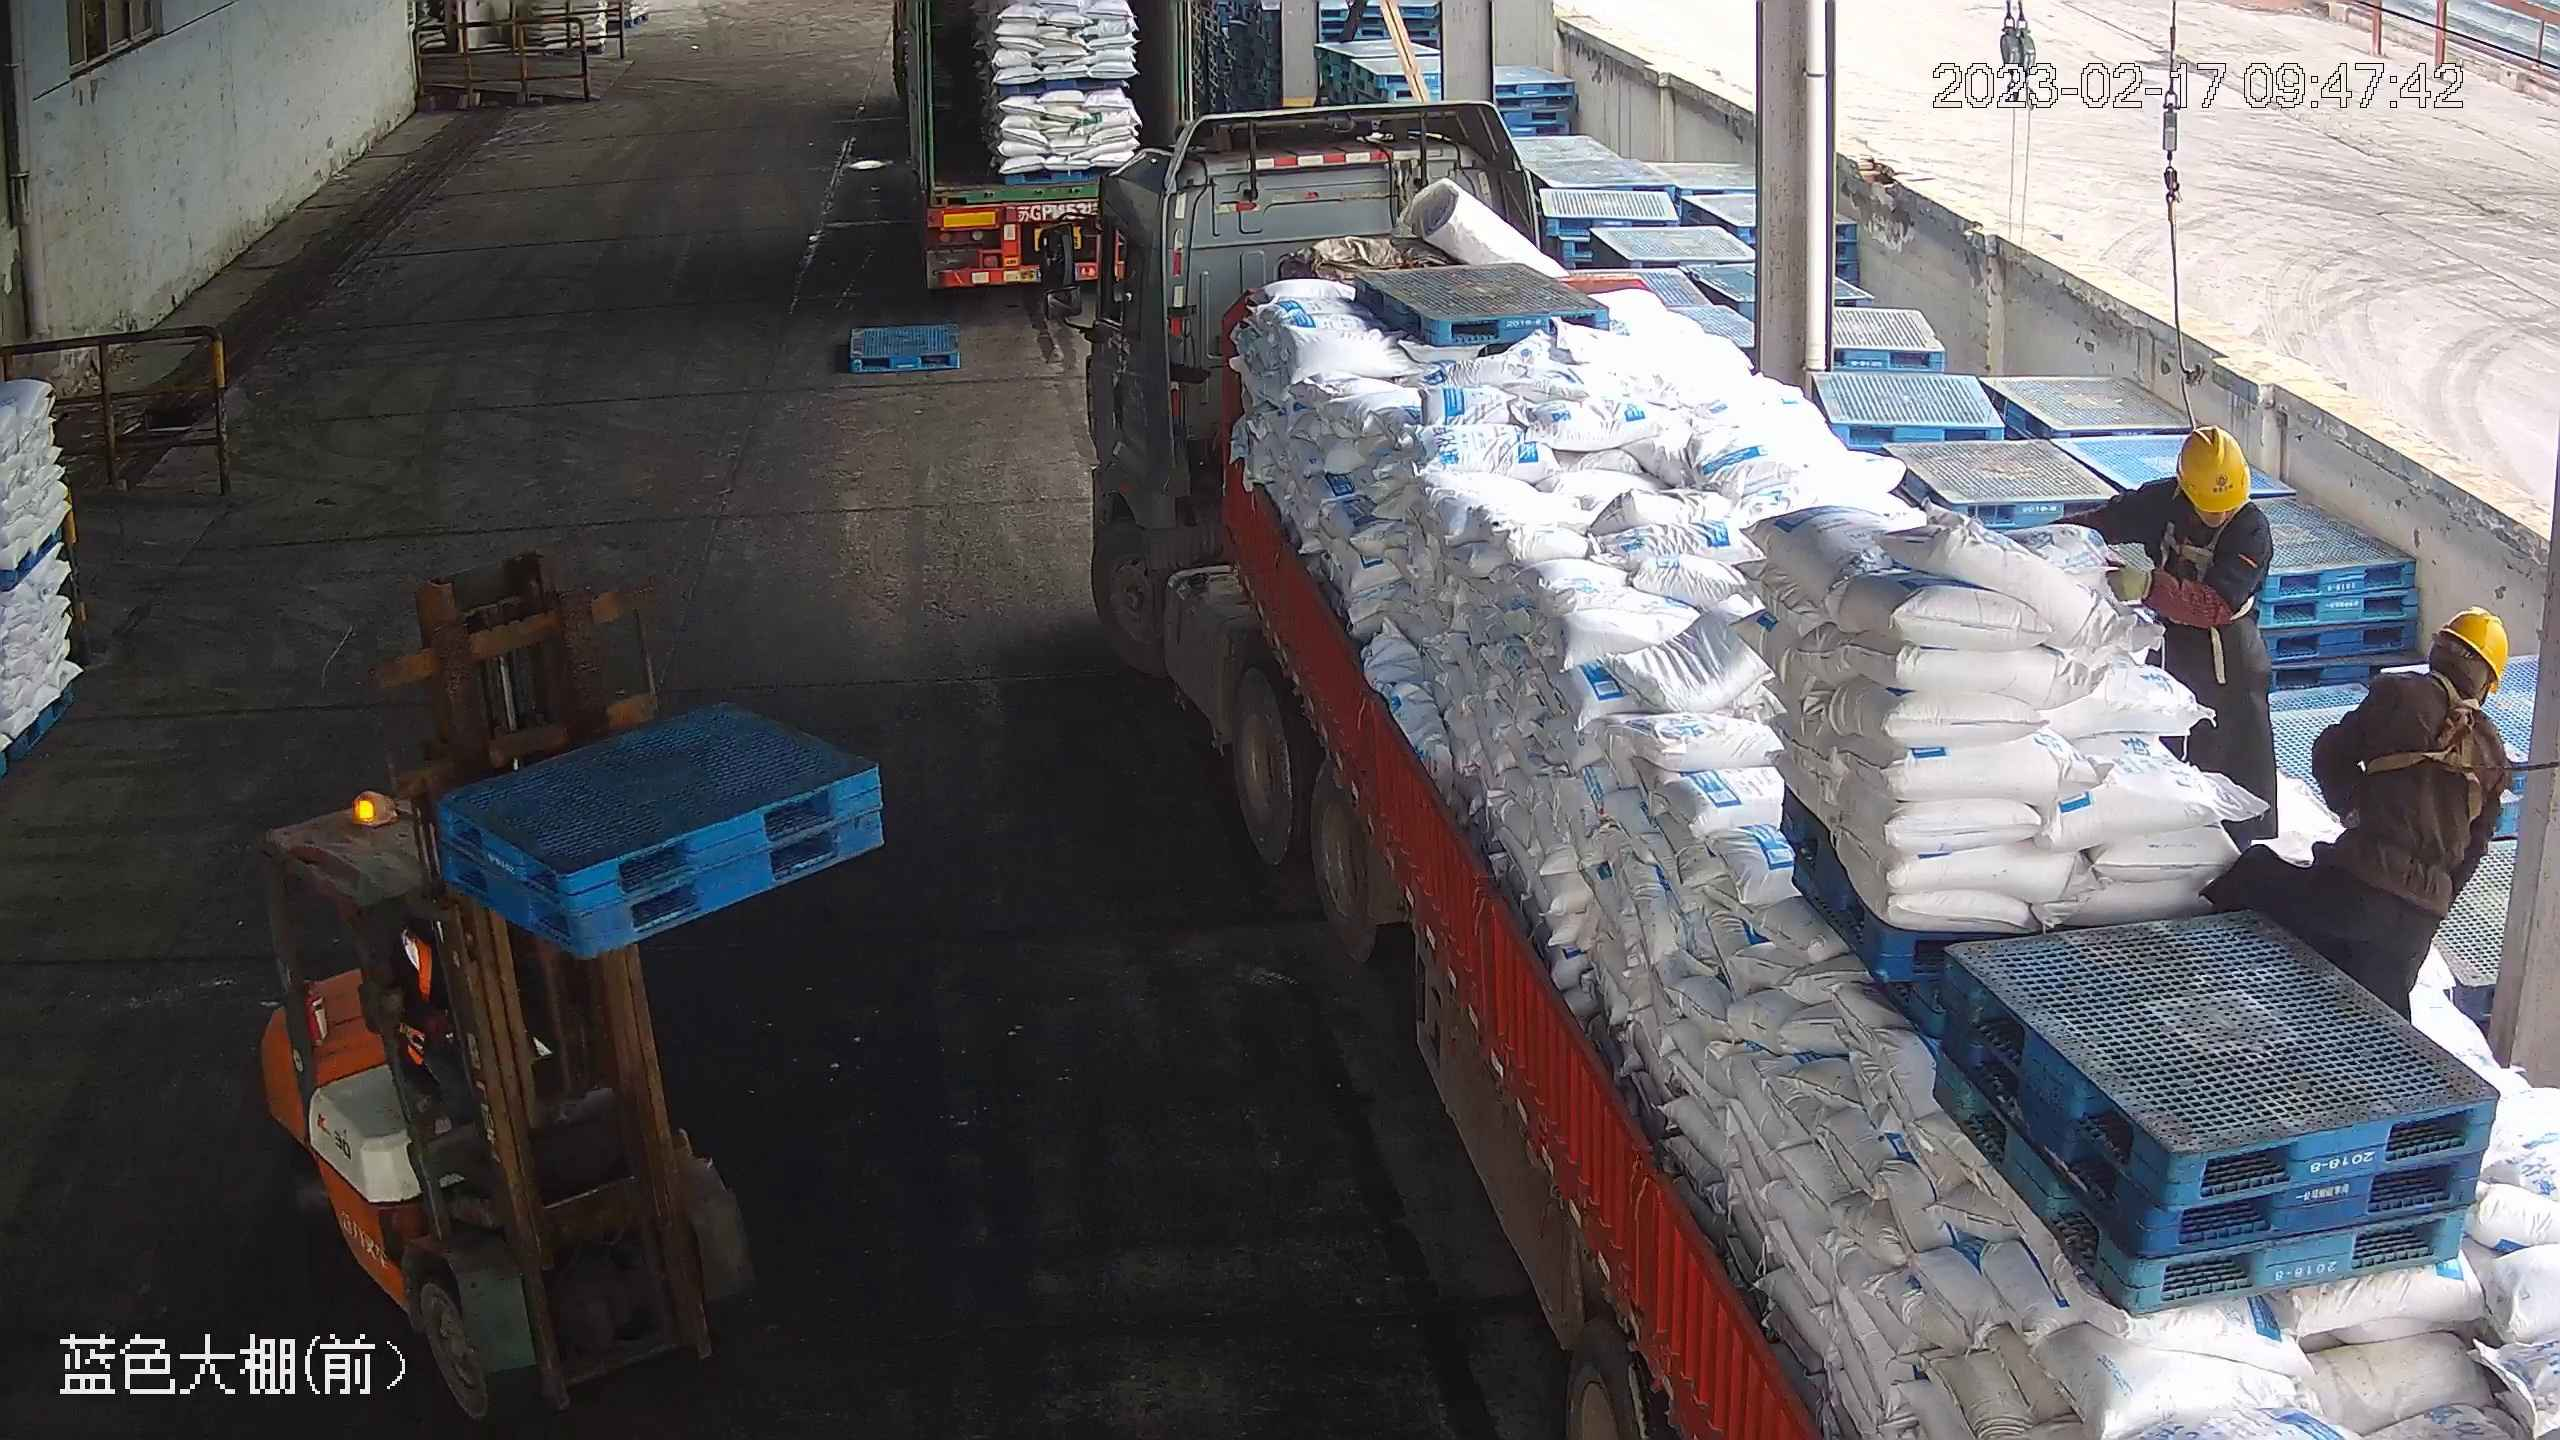belt: (2368, 683, 2488, 783), (2160, 501, 2234, 577)
head: (2355, 602, 2516, 751), (2128, 420, 2271, 569)
helmet: (2171, 420, 2259, 516), (2439, 602, 2518, 693)
people: (2091, 418, 2284, 858)
truck: (1049, 95, 2551, 1436), (866, 1, 1220, 302)
